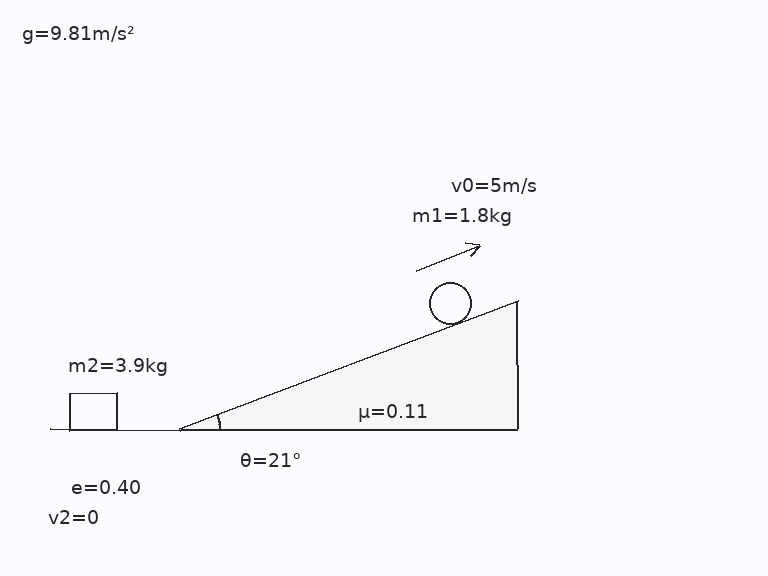ball: (427, 280, 473, 326)
block: (67, 391, 119, 431)
ramp: (178, 298, 519, 431)
